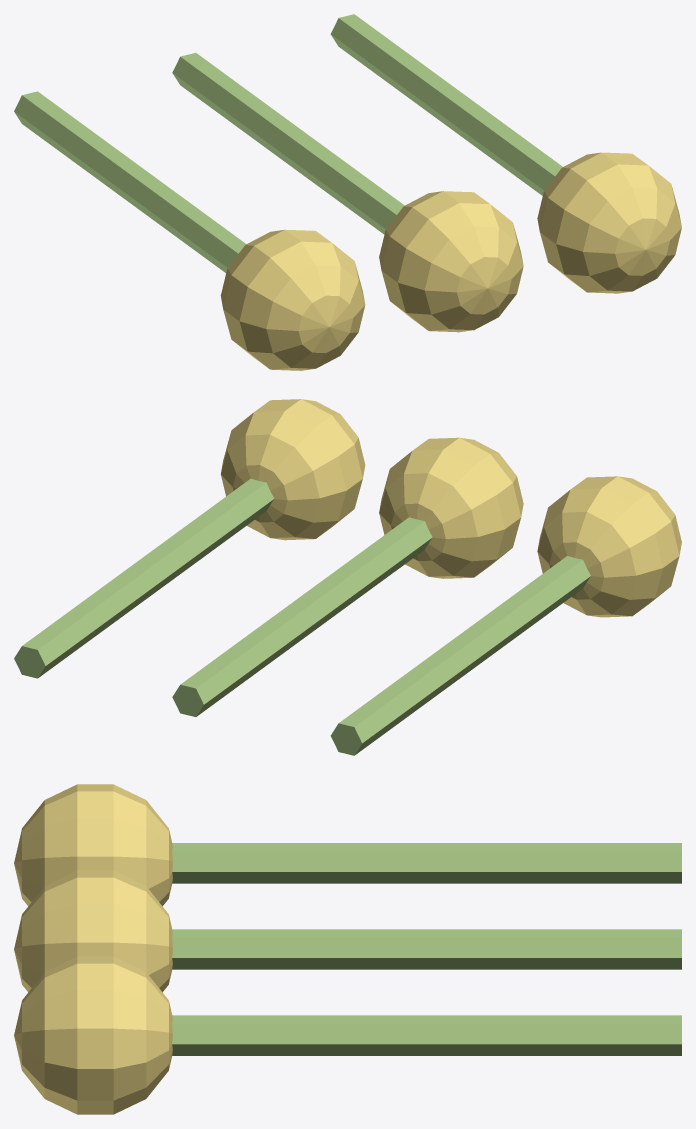
Rendered from crop_wheat.glb.
3 views of the same model, one above another, from view 1: azimuth 30°, elevation 25°; view 2: azimuth 150°, elevation 25°; view 3: azimuth 270°, elevation 25° (orthographic). The views are drawn at different scales.
Parts seen in each view (by area): view 1: head0.25, head-0.25, head0, stem0.25, stem0, stem-0.25; view 2: head-0.25, head0.25, head0, stem0, stem-0.25, stem0.25; view 3: stem-0.25, stem0, stem0.25, head0.25, head0, head-0.25.
Part boxes in pixels (x1=…): head0.25: x1=537, y1=152, x2=681, y2=293; head-0.25: x1=220, y1=229, x2=365, y2=370; head0: x1=379, y1=191, x2=523, y2=332; stem0.25: x1=330, y1=14, x2=562, y2=195; stem0: x1=172, y1=53, x2=404, y2=234; stem-0.25: x1=14, y1=91, x2=245, y2=272; head-0.25: x1=537, y1=476, x2=681, y2=617; head0.25: x1=220, y1=399, x2=365, y2=540; head0: x1=379, y1=437, x2=523, y2=578; stem0: x1=172, y1=517, x2=432, y2=716; stem-0.25: x1=330, y1=556, x2=590, y2=755; stem0.25: x1=14, y1=478, x2=274, y2=678; stem-0.25: x1=172, y1=843, x2=681, y2=883; stem0: x1=172, y1=929, x2=681, y2=969; stem0.25: x1=172, y1=1015, x2=681, y2=1055; head0.25: x1=14, y1=956, x2=172, y2=1114; head0: x1=14, y1=870, x2=172, y2=992; head-0.25: x1=14, y1=784, x2=172, y2=906.
Size of the model in its own units: 0.695 by 0.195 by 0.82.
